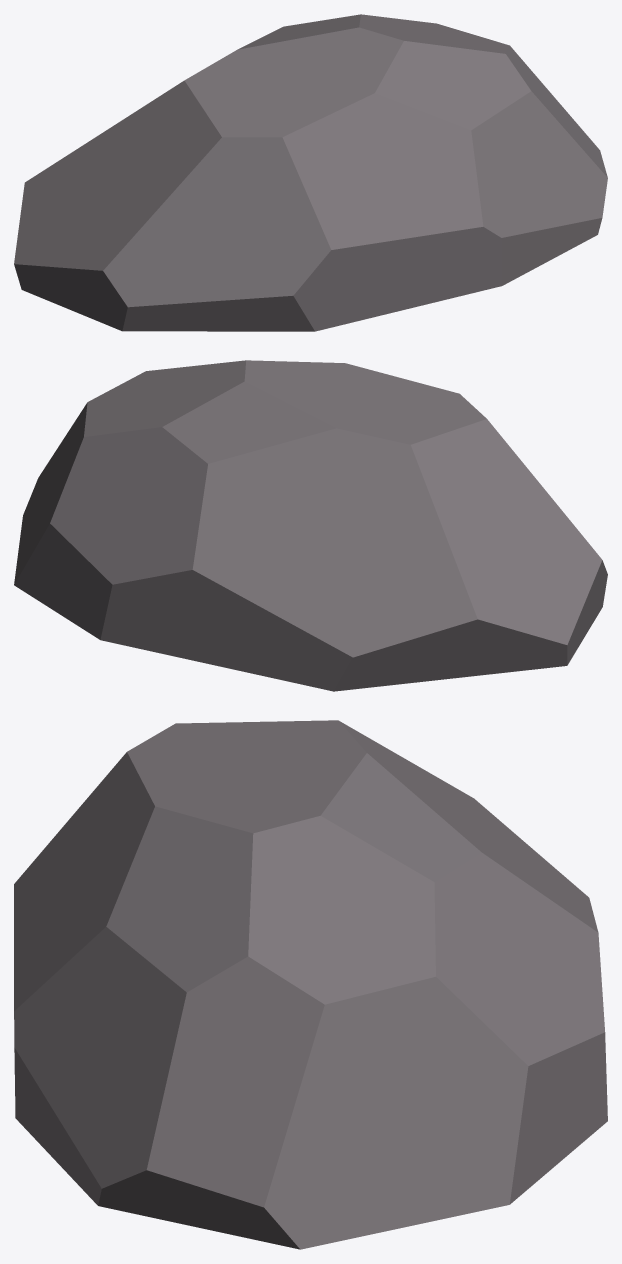
File: Rock_Round_l_08.fbx
3 renders of one model, top to bottom at view 1: azimuth 30°, elevation 25°; view 2: azimuth 150°, elevation 25°; view 3: azimuth 270°, elevation 25°, orthographic. The views are drawn at different scales.
Visible parts, largest first — view 1: Rock_Round_l_08; view 2: Rock_Round_l_08; view 3: Rock_Round_l_08.
Part boxes in pixels (x1,y1,x2,y2): Rock_Round_l_08: [14, 14, 607, 331]; Rock_Round_l_08: [14, 360, 607, 691]; Rock_Round_l_08: [14, 720, 607, 1249].
Bounding box in the file's own units: 340 × 112 × 218.
